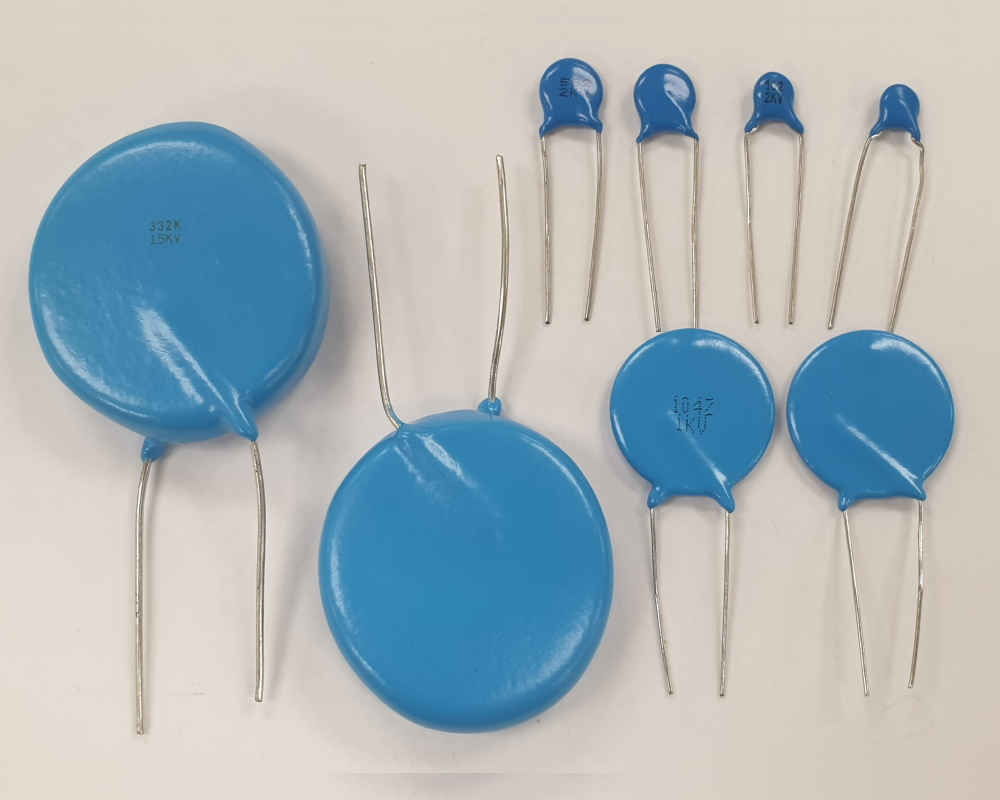capacitor: (34, 91, 352, 523), (311, 382, 630, 757), (771, 292, 975, 525), (580, 307, 787, 516), (824, 50, 958, 197), (719, 39, 824, 172), (614, 38, 712, 172), (524, 43, 616, 153)
